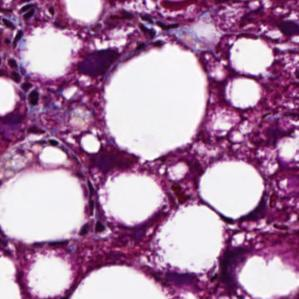inflammation: (4, 55, 46, 111)
